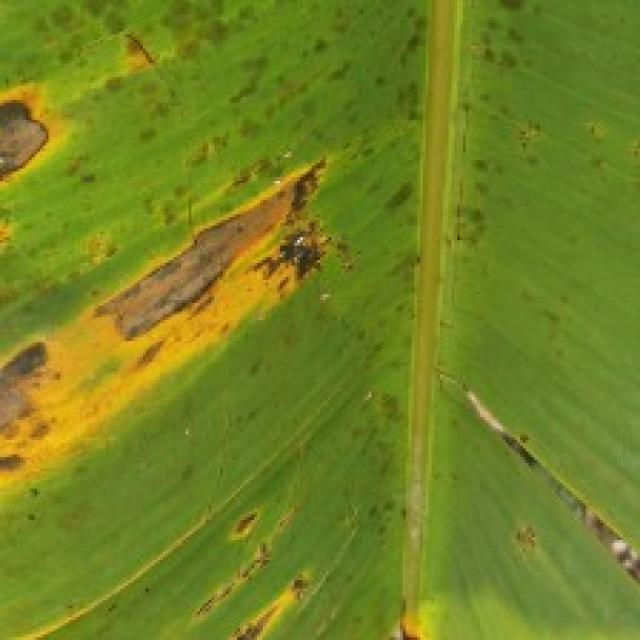Downey_mildrew: (0, 0, 356, 528), (383, 0, 640, 271), (146, 497, 486, 640), (507, 489, 544, 568)
